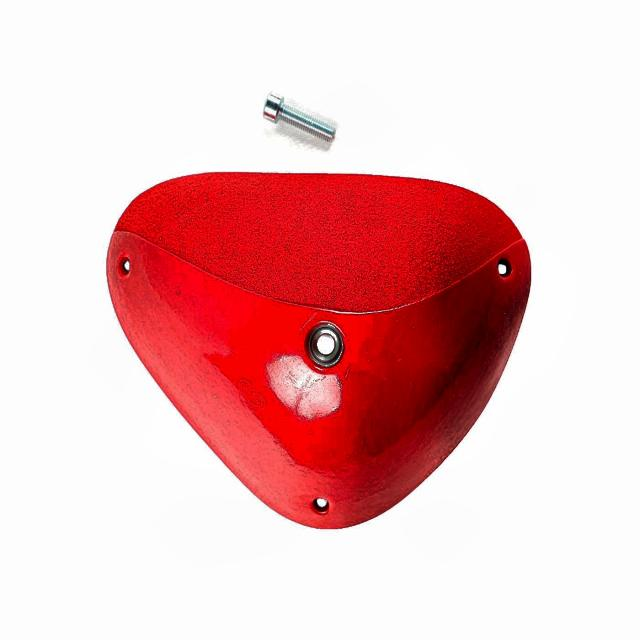Hold: (97, 170, 542, 536)
